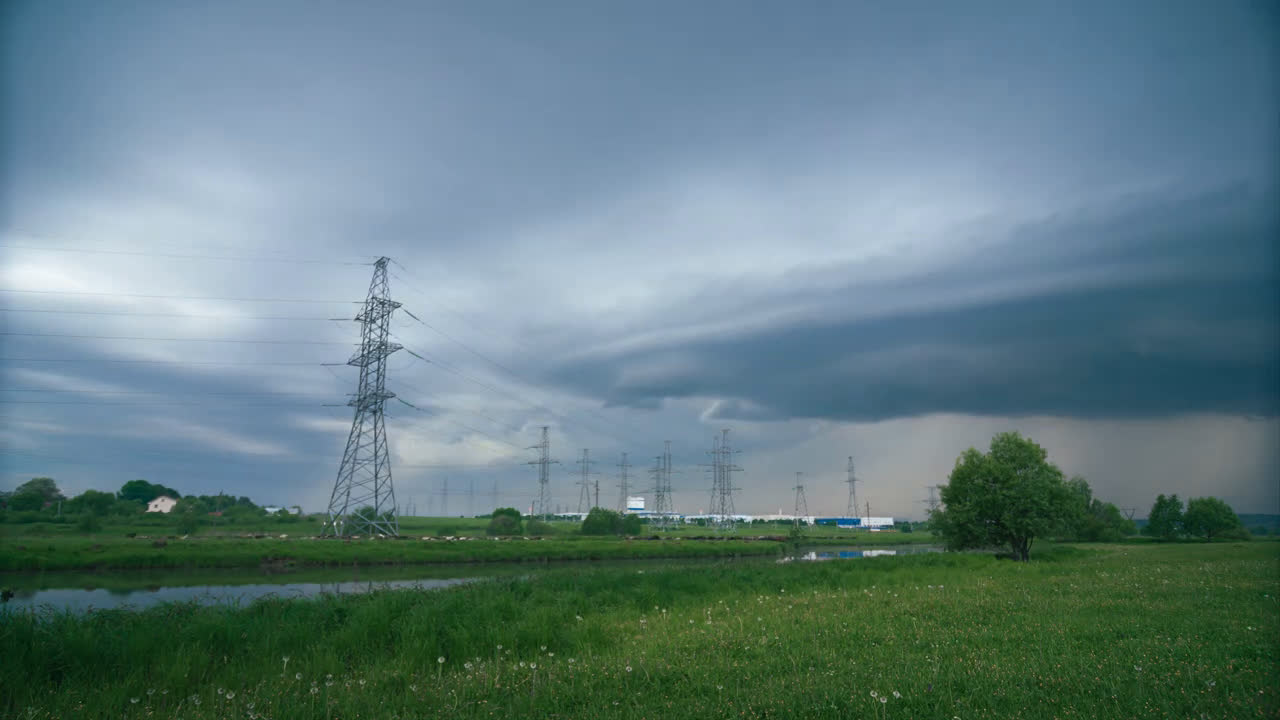RFD: (1225, 413, 1278, 516)
mesocyclone: (552, 189, 1280, 410)
striations: (551, 250, 1279, 372)
wall cloud: (798, 356, 1280, 421)
